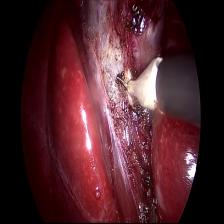Hook: (114, 55, 165, 116)
